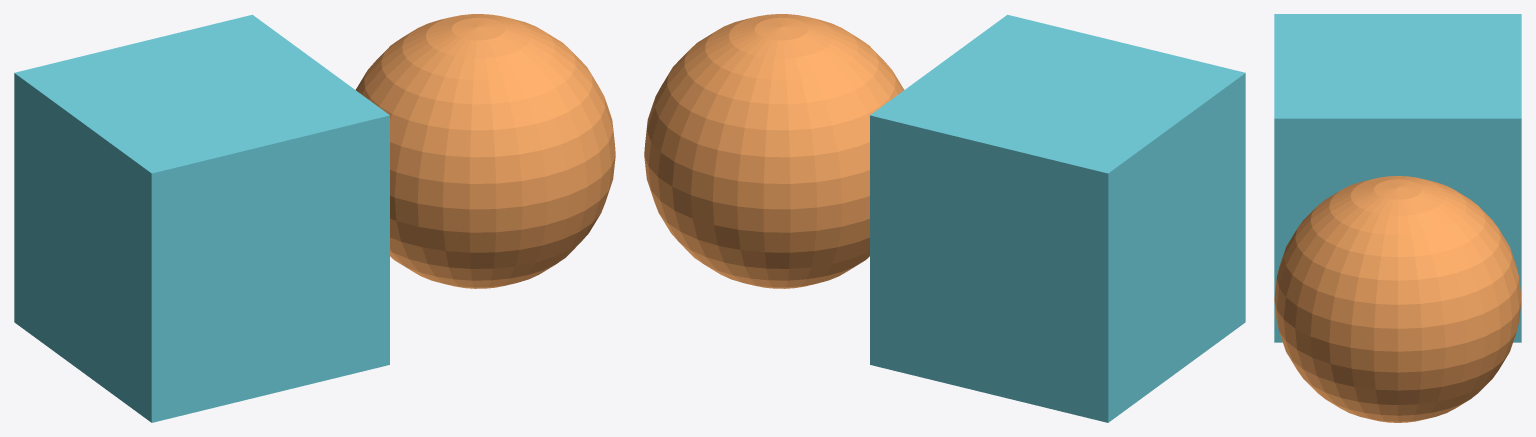
Rendered from sample.glb.
3 views of the same model, side by side, from view 1: azimuth 30°, elevation 25°; view 2: azimuth 150°, elevation 25°; view 3: azimuth 270°, elevation 25° (orthographic). The views are drawn at different scales.
Parts seen in each view (by area): view 1: Cube, Sphere; view 2: Cube, Sphere; view 3: Sphere, Cube.
Boxes of the visible parts, x1,y1,x2,y2 form: Cube: [14, 14, 389, 422]; Sphere: [356, 14, 615, 288]; Cube: [870, 14, 1245, 422]; Sphere: [644, 14, 903, 288]; Sphere: [1274, 176, 1521, 422]; Cube: [1274, 14, 1521, 342].
Size of the model in its own units: 4.32 by 2 by 2.
